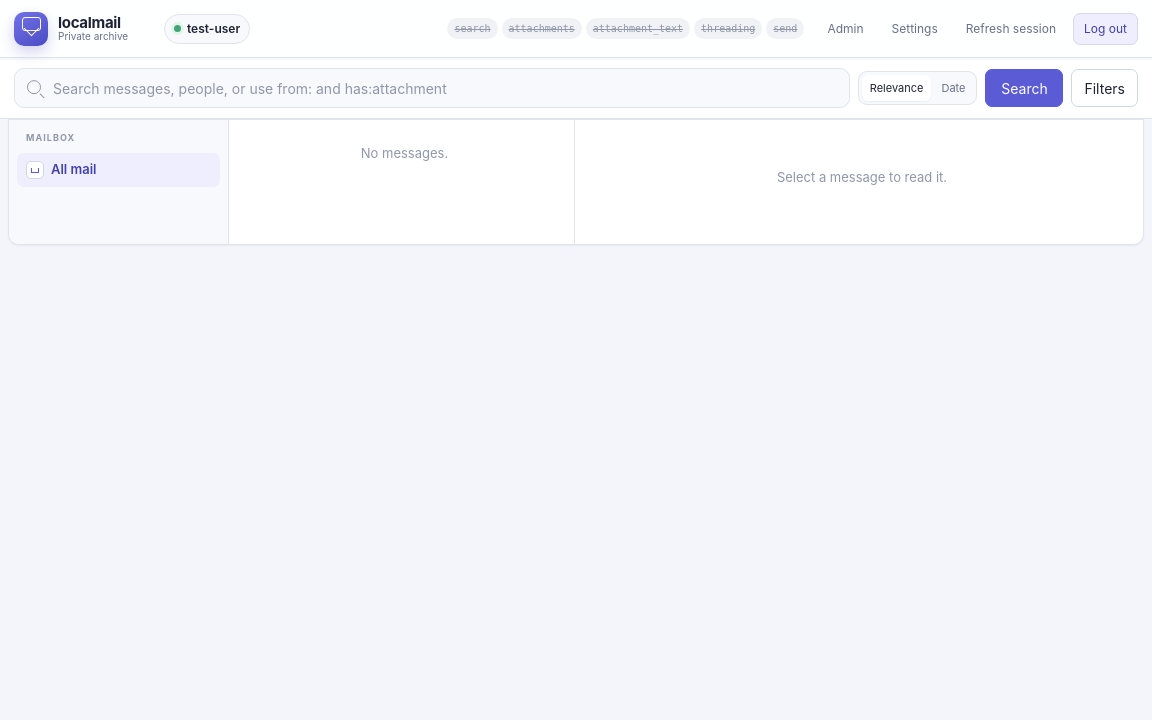
Test case: MainView › opens the admin overlay when the Admin button is clicked
Click the button with test id "open-admin" at (845, 28), box [816, 12, 874, 44]
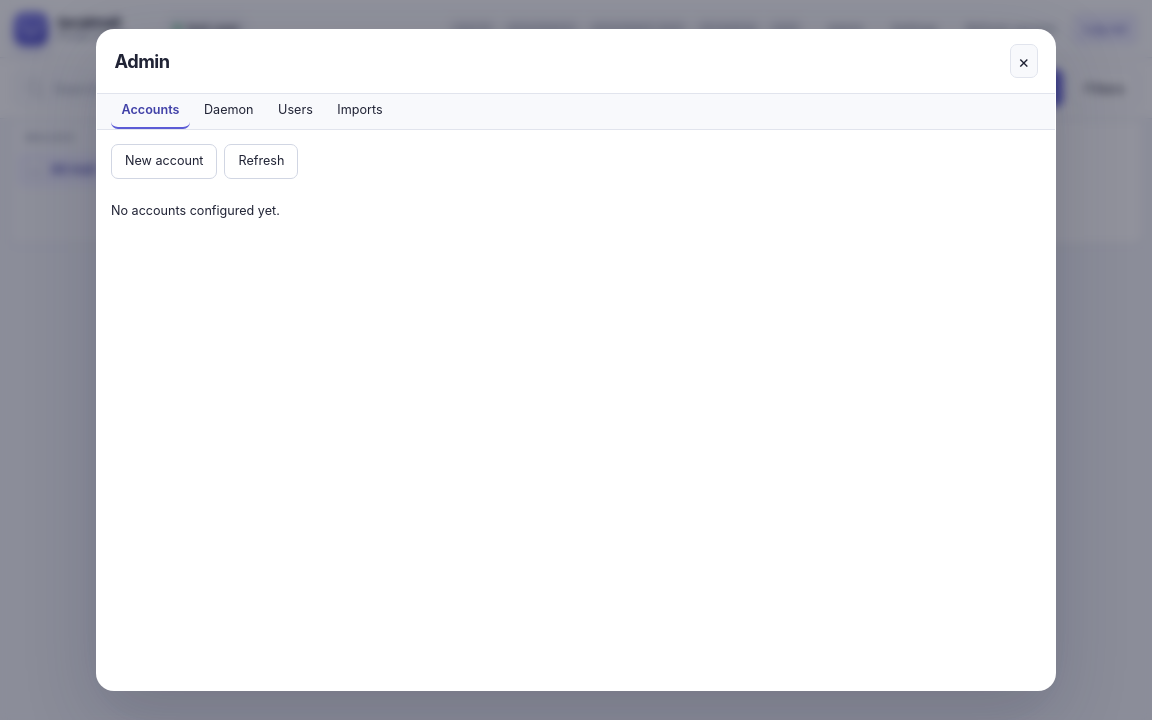
Expected: the panel with test id "admin-panel-body" is shown, [111, 144, 298, 218]
